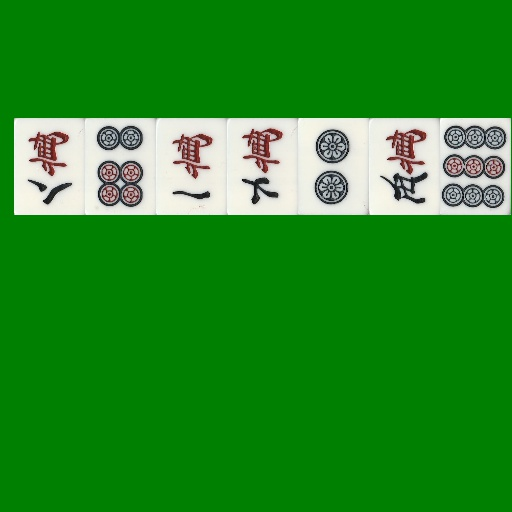1m: (156, 118, 227, 215)
2p: (298, 118, 369, 215)
5m: (369, 118, 440, 215)
6p: (85, 118, 156, 215)
7m: (227, 118, 298, 215)
8m: (14, 118, 85, 215)
9p: (440, 118, 511, 215)
